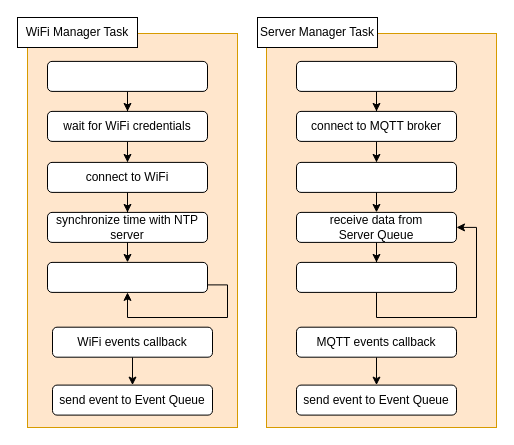
Image size: 514x445. Some labels were removed from this diagram. Each missing label, with the box of its shape:
initialize WiFi & NTP driver: (46, 60, 208, 91)
load credentials, setup MQTT client: (296, 60, 456, 91)
receive from WiFi Queue & send to Event Queue: (46, 261, 208, 292)
send data to broker: (296, 261, 456, 292)
subscribe to server topics: (296, 161, 456, 192)
